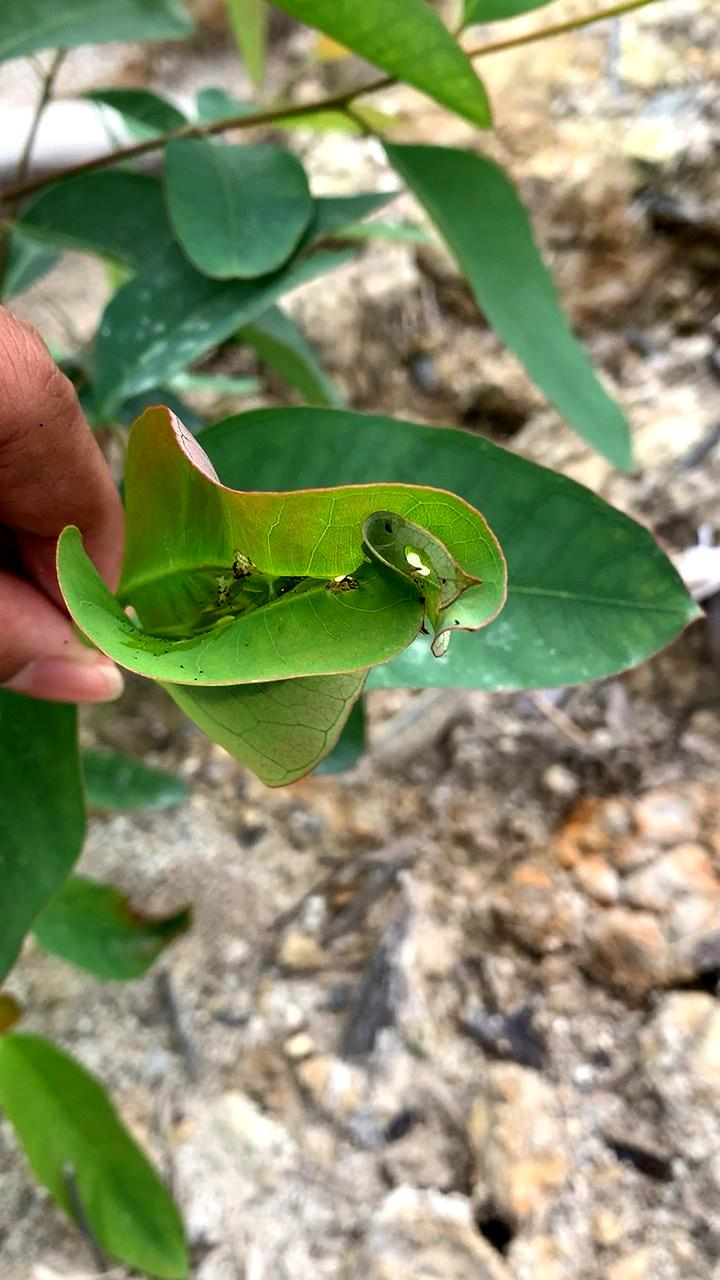Leaf Roller - Leaf: (39, 391, 526, 800)
